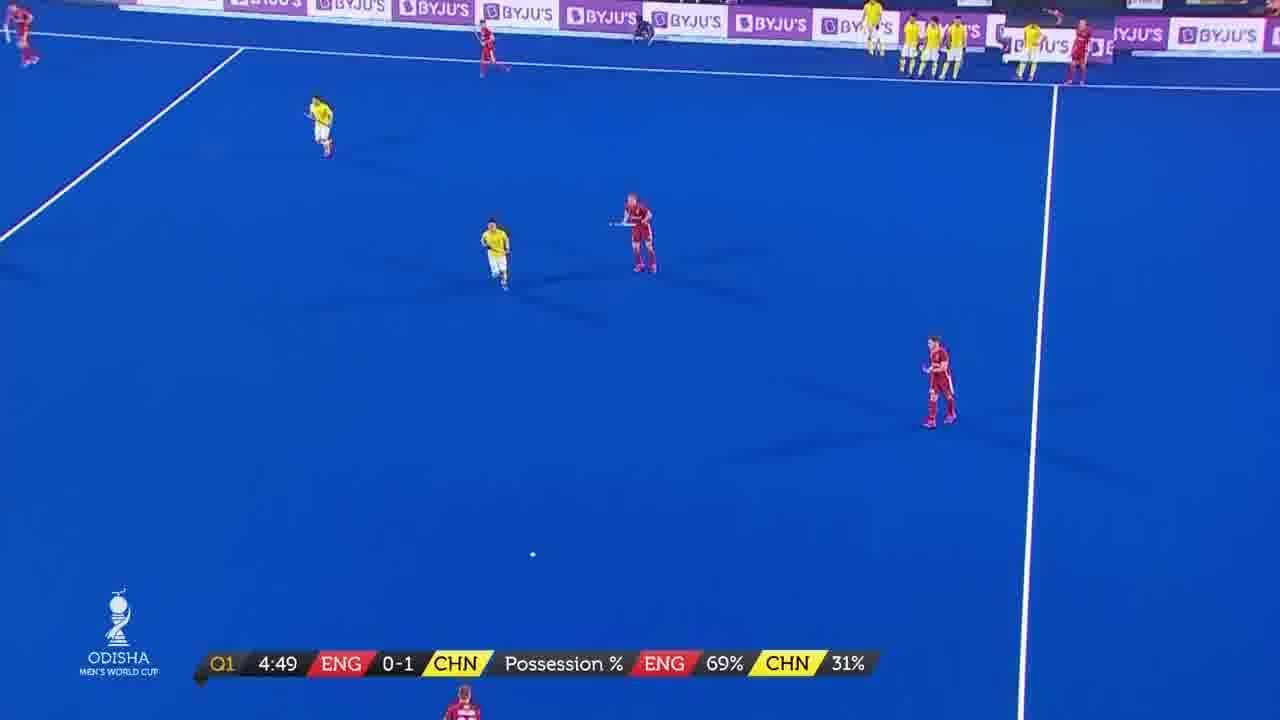ball: (525, 544, 545, 564)
